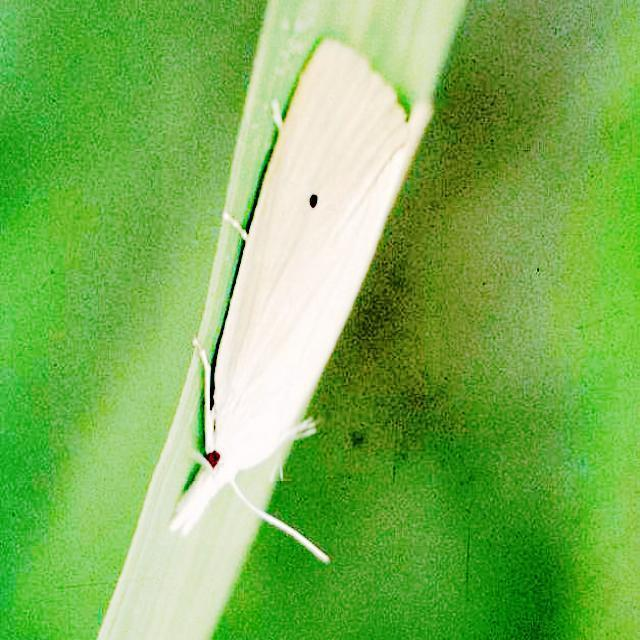stem-borer: (161, 35, 440, 545)
